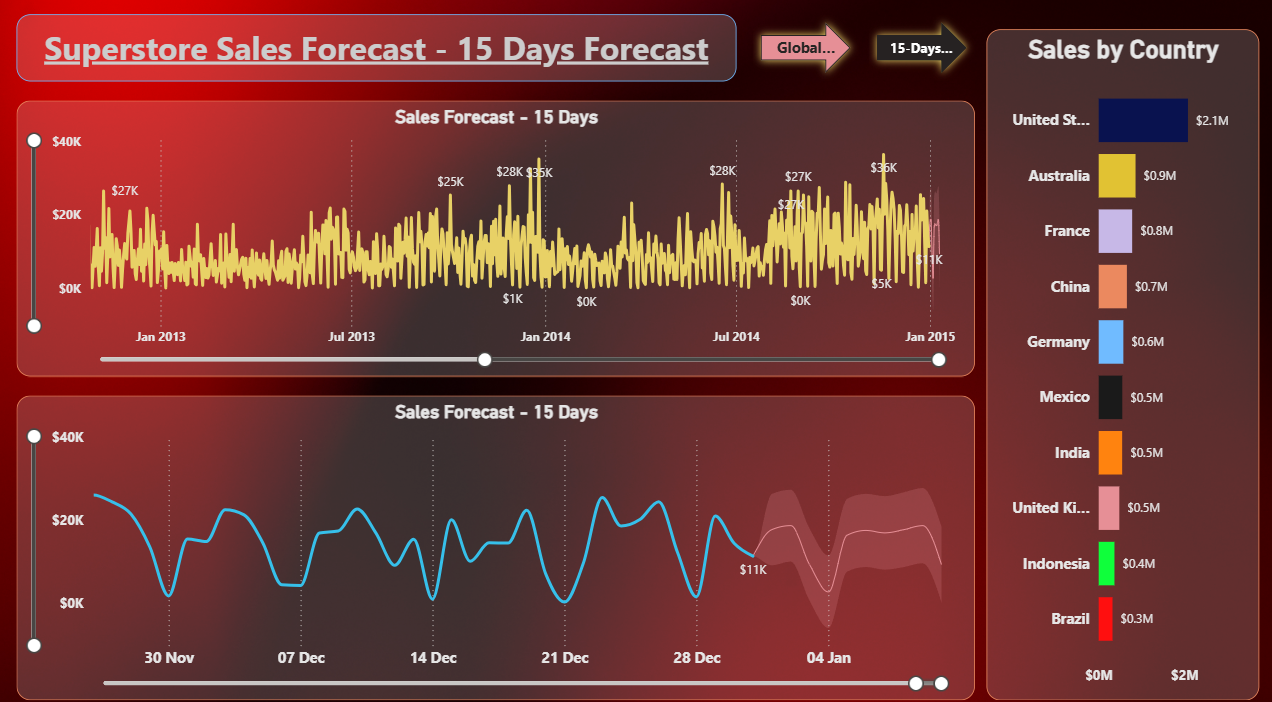

The page's visual inventory and layout, read from the dashboard file:
{"tool":"powerbi","page":{"name":"15-Days Forecast","canvas":[1280,720],"ordinal":1},"visuals":[{"type":"lineChart","title":"Sales Forecast - 15 Days","fields":{"Y":["Sum(Real data.Sales)"],"Category":["Real data.Order Date"]},"box":[17.5,102.5,958.8,276.2],"z":0},{"type":"lineChart","title":"Sales Forecast - 15 Days","fields":{"Y":["Sum(Real data.Sales)"],"Category":["Real data.Order Date"]},"box":[17.5,397.5,958.8,305],"z":1000},{"type":"pageNavigator","box":[753.4,16,223.3,67.5],"z":2000},{"type":"textbox","box":[17.5,16.2,720,67.5],"z":3000},{"type":"clusteredBarChart","title":"Sales by Country","fields":{"Y":["Sum(Real data.Sales)"],"Category":["Real data.Country"]},"box":[987.5,31.2,272.5,671.2],"z":4000}]}

Visuals, with their boxes in screenshot pixels (x1, y1, x2, y2), scaled from the page's 1280x720 canvas onto the 1272x702 screenshot:
"Sales Forecast - 15 Days" lineChart: select_region(17, 100, 970, 369)
"Sales Forecast - 15 Days" lineChart: select_region(17, 388, 970, 685)
pageNavigator: select_region(749, 16, 971, 81)
textbox: select_region(17, 16, 733, 82)
"Sales by Country" clusteredBarChart: select_region(981, 30, 1252, 685)
